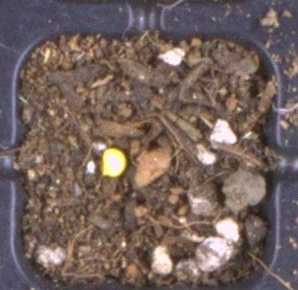chilli seed: (101, 147, 127, 178)
